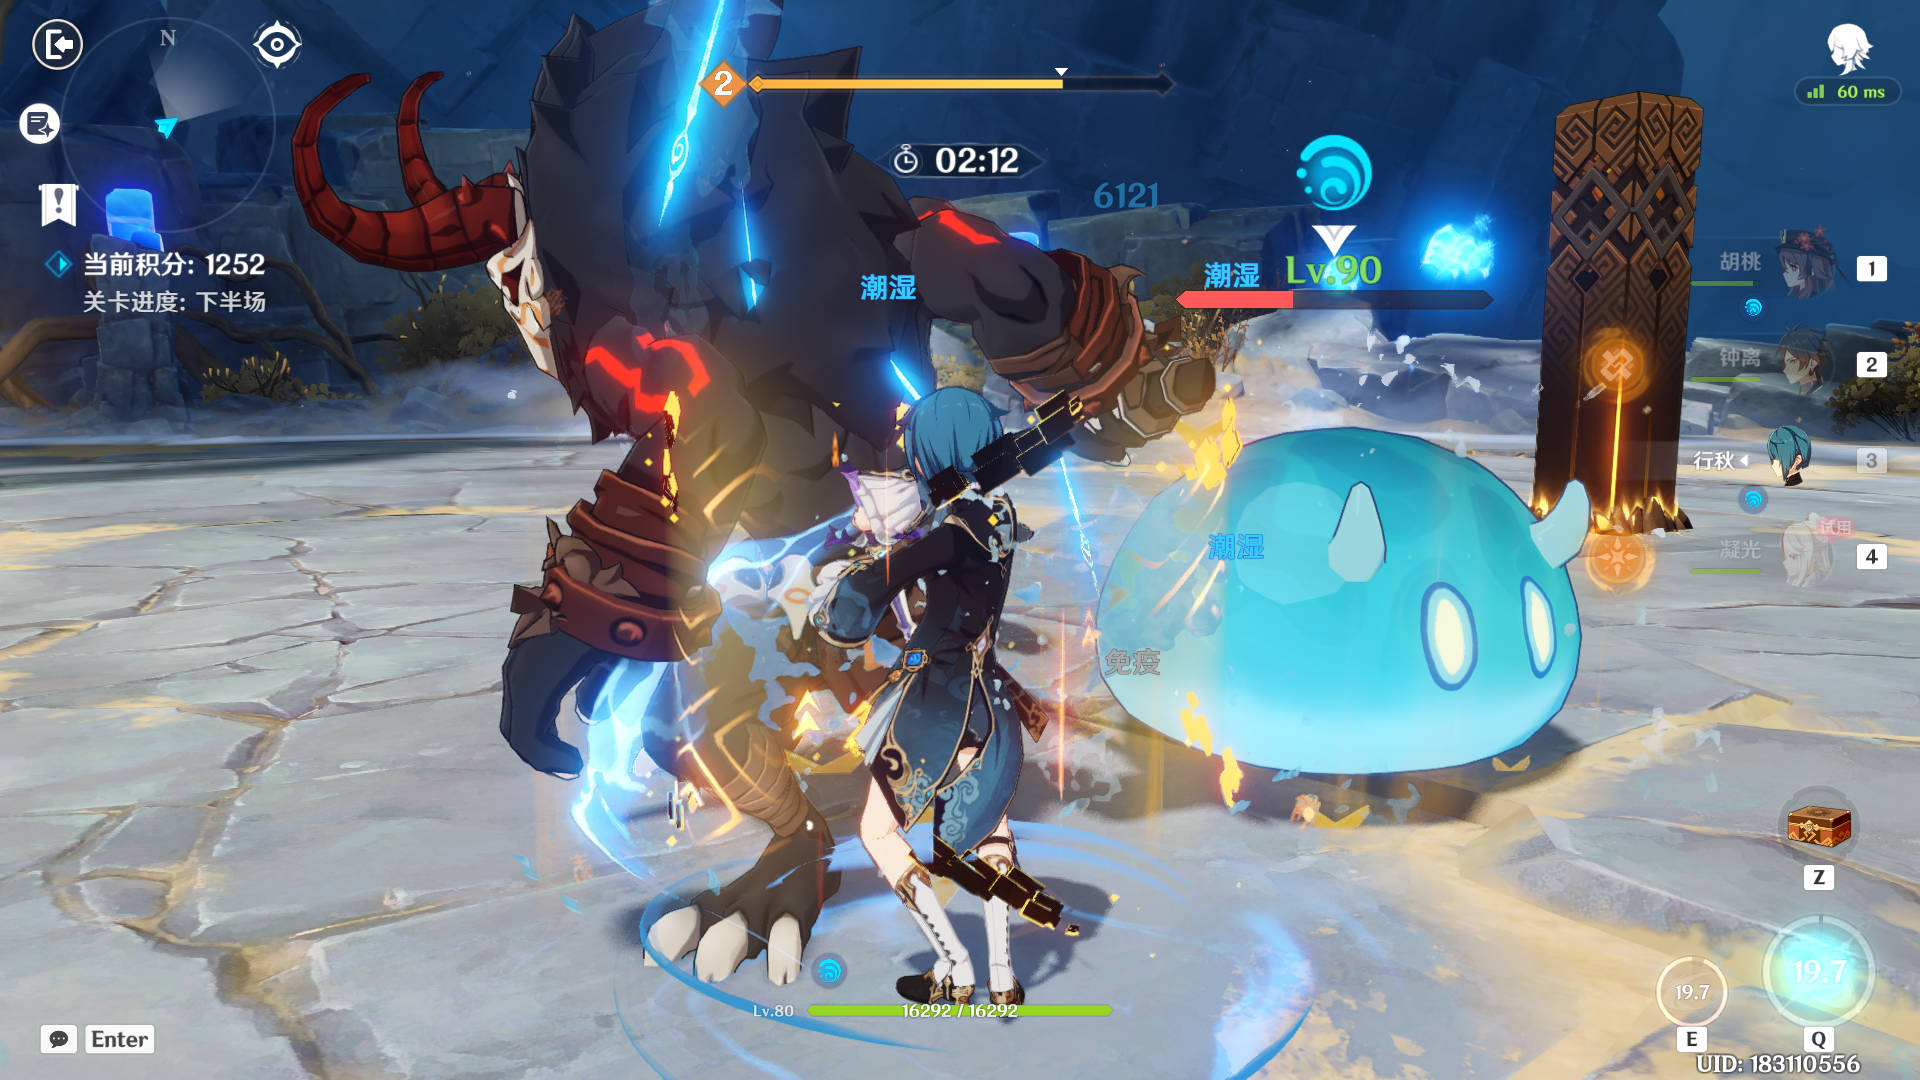bighili: (301, 25, 1179, 952)
character: (796, 339, 1138, 1048)
slime: (1040, 386, 1605, 810)
